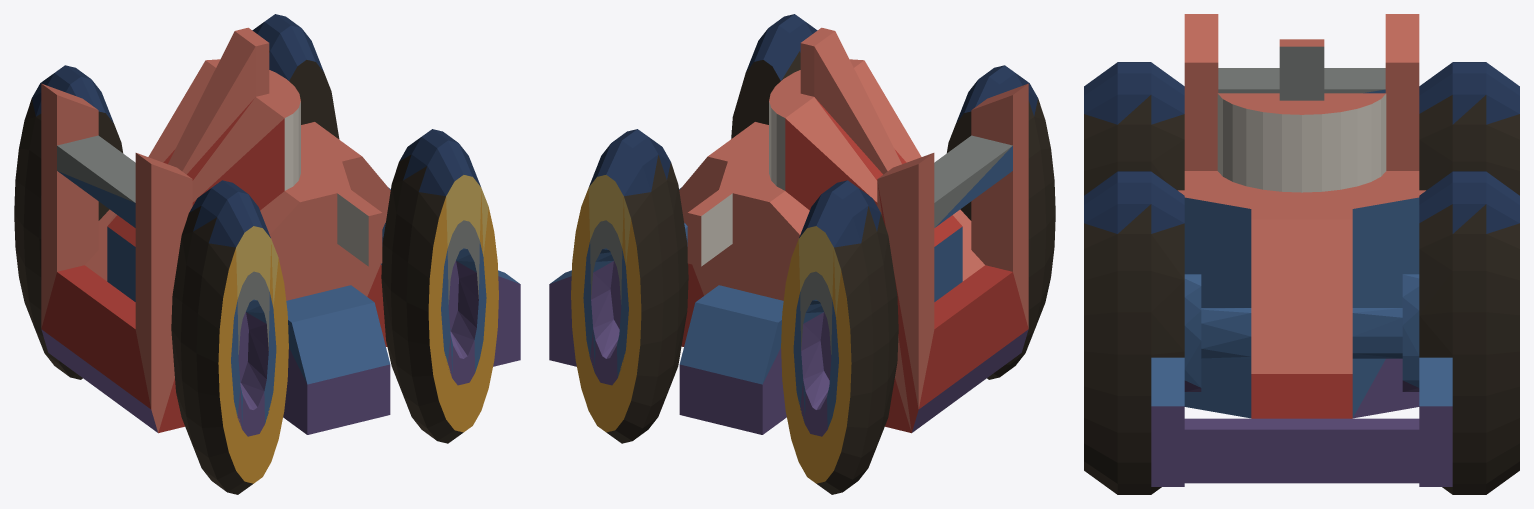
The model's file is race.glb.
3 renders of one model, left to right at view 1: azimuth 30°, elevation 25°; view 2: azimuth 150°, elevation 25°; view 3: azimuth 270°, elevation 25°, orthographic. The views are drawn at different scales.
Bounding box in the file's own units: 1 × 1 × 1.
